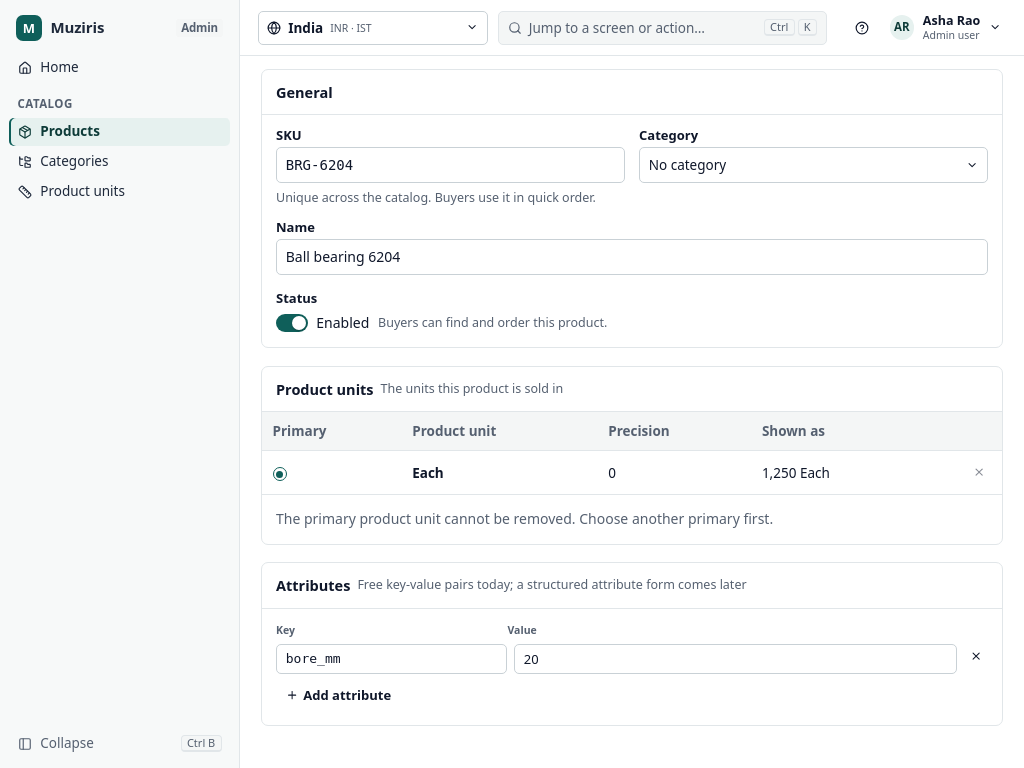
product detail › refuses a repeated attribute key before saving
(page scrolled)
Step 1. Click the button "Add attribute" → [338, 696], box x1=276 y1=681 x2=401 y2=711
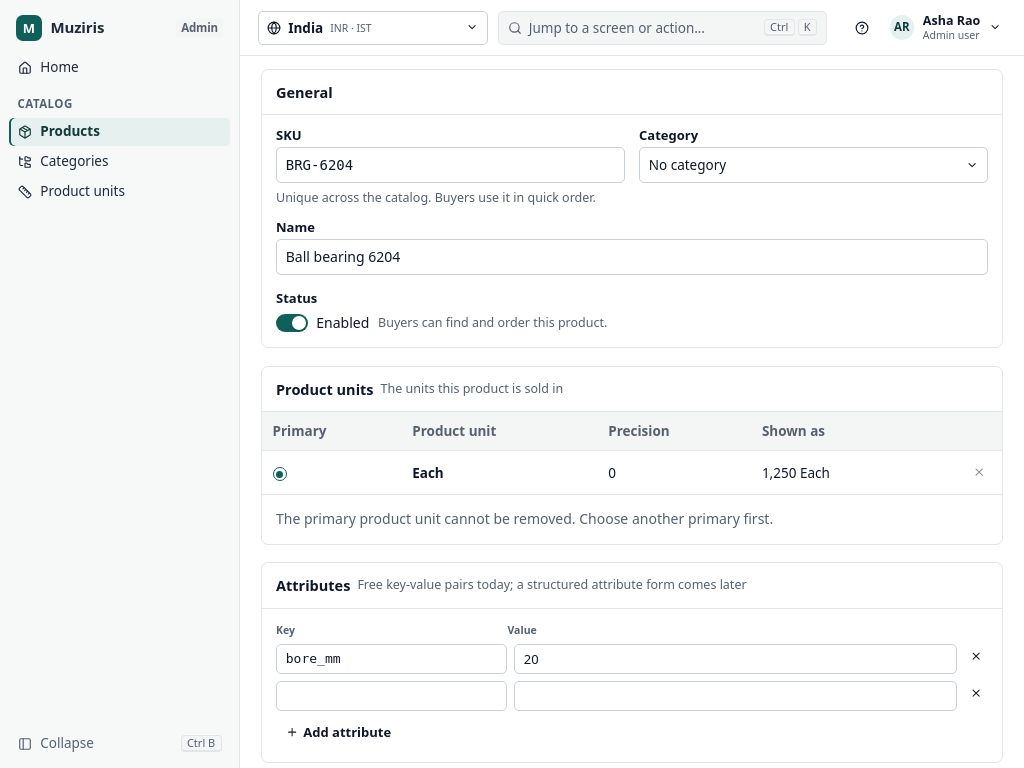
Step 2. Type "bore_mm" into the 2nd field named "Attribute key" → [392, 696], box x1=276 y1=681 x2=507 y2=711
(page scrolled)
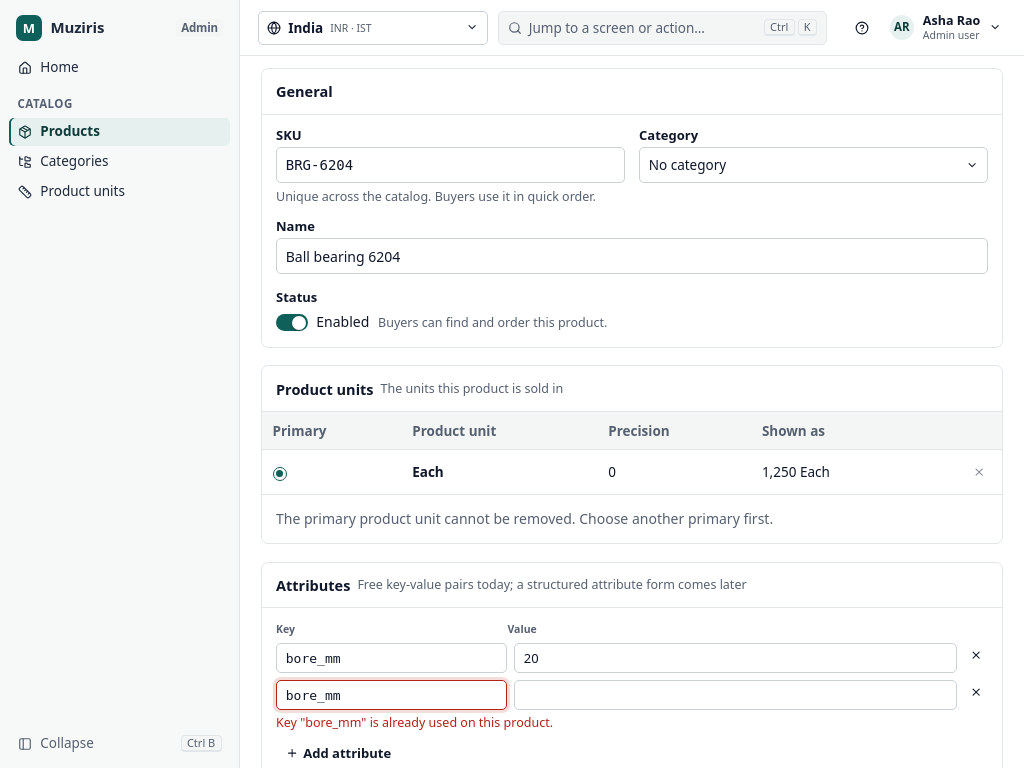
Result: the text "Key \"bore_mm\" is already used on this product." is shown at x1=276 y1=714 x2=553 y2=731
